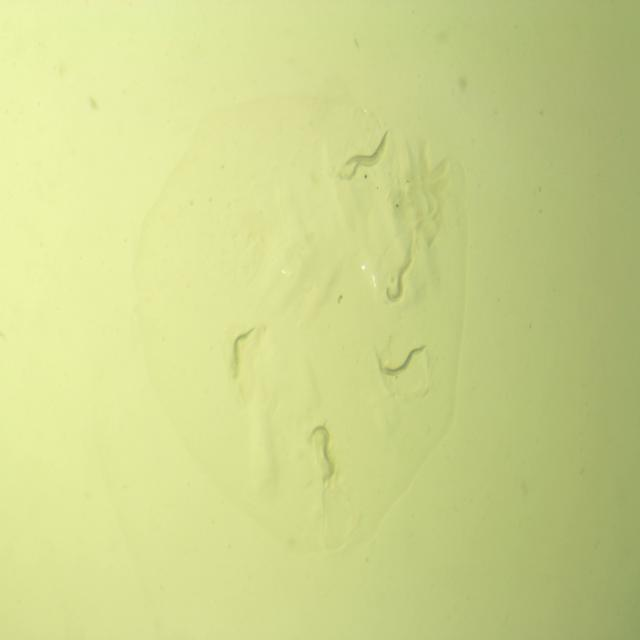worm: (341, 127, 392, 169), (376, 342, 429, 379), (306, 422, 338, 482), (338, 150, 383, 187), (229, 324, 257, 382), (384, 254, 414, 306)
